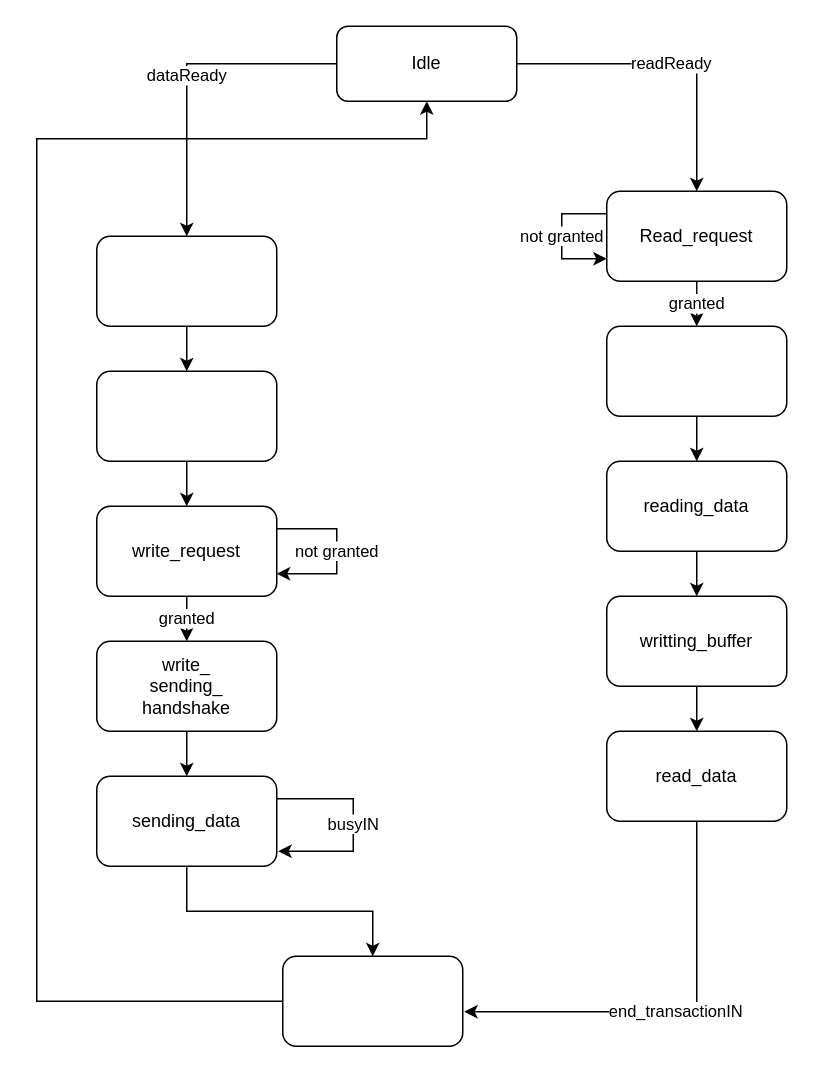
The diagram is 813 pixels wide and 1073 high, and some of its shapes have lost their labels. The box of each missing label's shape, as (x1, y1, x2, y2) in pixels:
asking_for_buffer: (95, 235, 277, 326)
end_transaction: (281, 955, 463, 1046)
read_ sending_ handshake: (605, 325, 787, 416)
reading_from_buffer: (95, 370, 277, 461)
